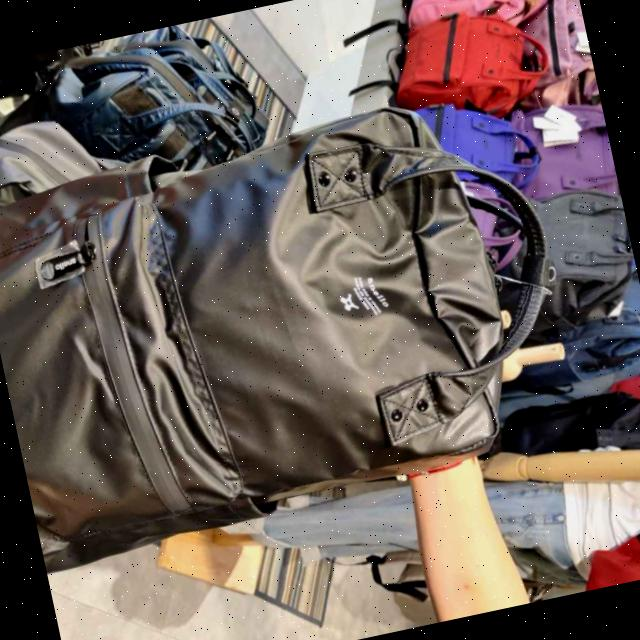Handbag: (0, 37, 613, 603)
